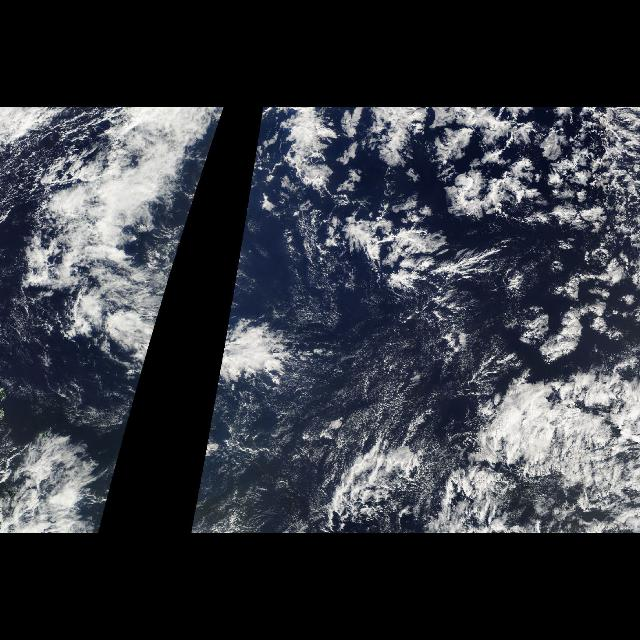Flower: (420, 108, 634, 366)
Sugar: (229, 256, 499, 522)
